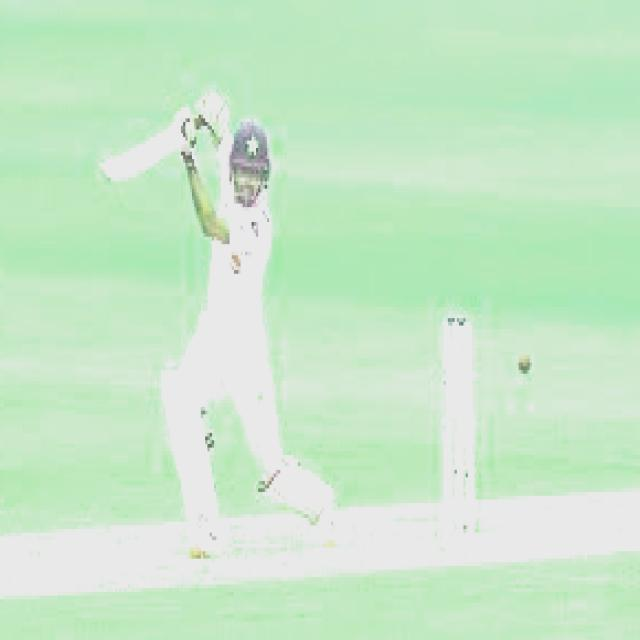bat: (96, 125, 201, 188)
toe: (94, 161, 116, 188)
